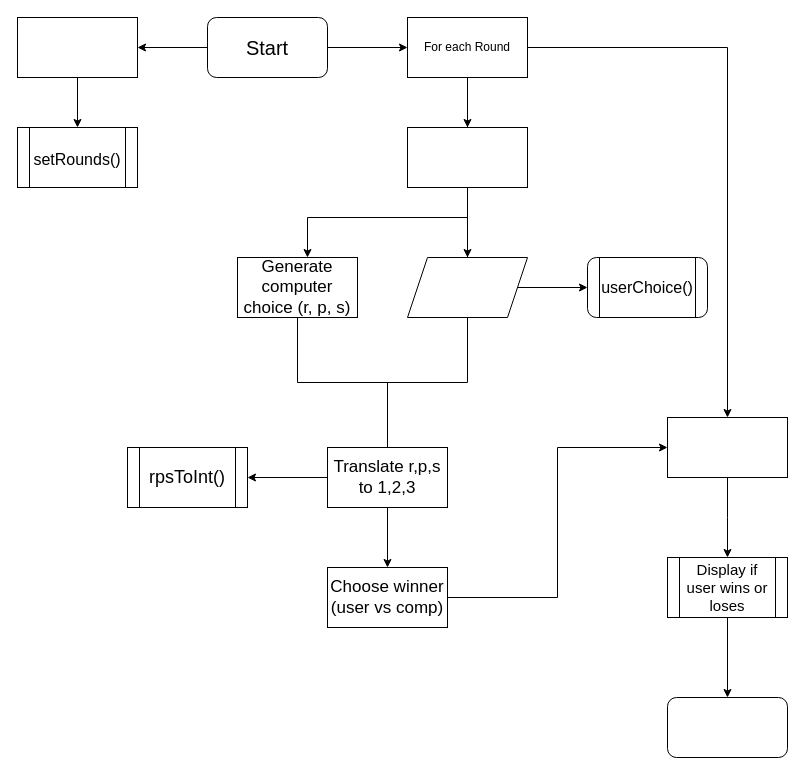
This 805x775 diagram has some shape labels left out. Each missing label, with the centre of its shape:
"ask for user's choice (r, p, s)" belongs at point (467, 287).
"Declare numRounds" belongs at point (77, 47).
"End" belongs at point (727, 727).
"Keep track of wins/ ties and loses" belongs at point (727, 447).
"playRound()" belongs at point (467, 157).
